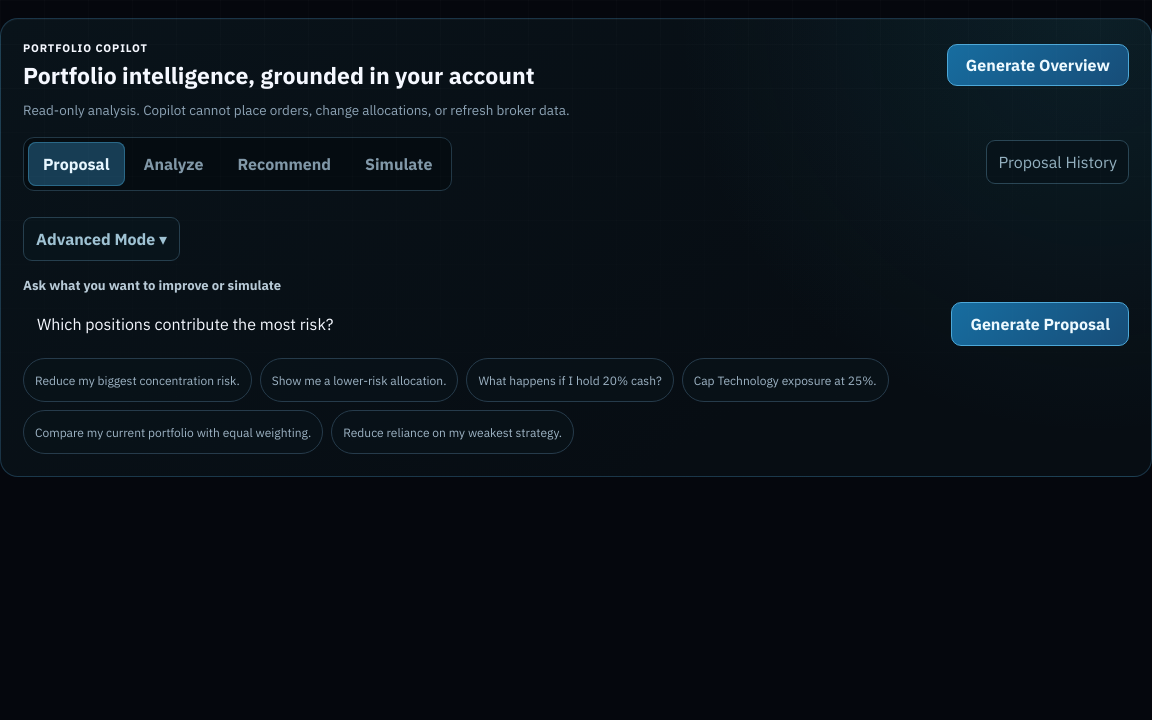
Test: PortfolioCopilotPanel › loads immutable proposal history for the current user
Click the button "Proposal History".
click(1058, 162)  # box [986,140,1129,184]
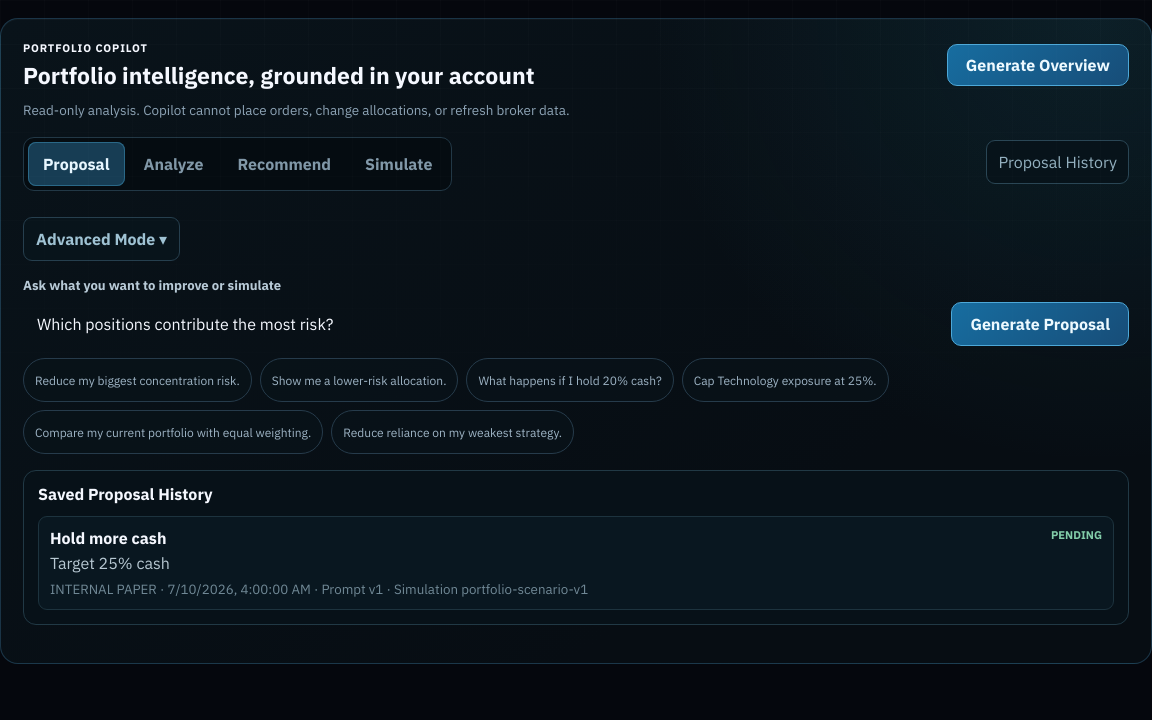
Expected: the heading "Saved Proposal History" is shown, [38,484,212,504]
Expected: the text "Hold more cash" is shown, [50,528,166,548]
Expected: the text "PENDING" is shown, [1051,528,1102,548]
